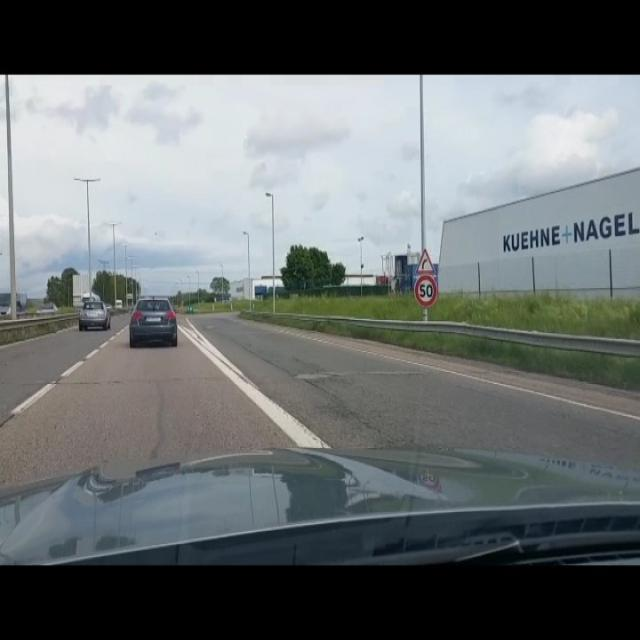speed_50: (414, 274, 438, 309)
turn_right: (414, 247, 438, 274)
